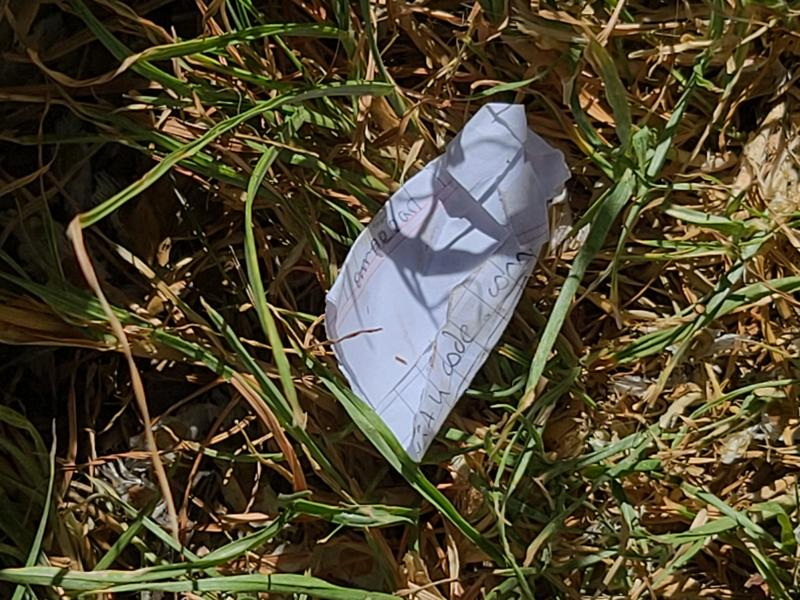papel: (320, 103, 571, 465)
